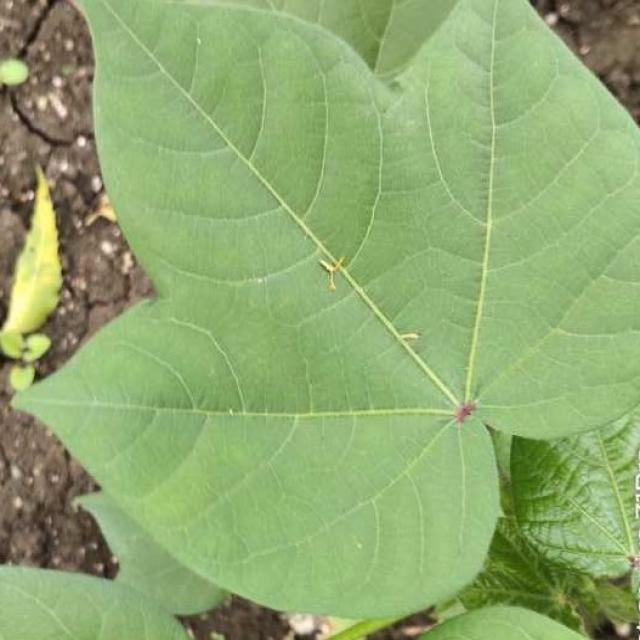Healthy Leaf: (96, 14, 640, 628)
